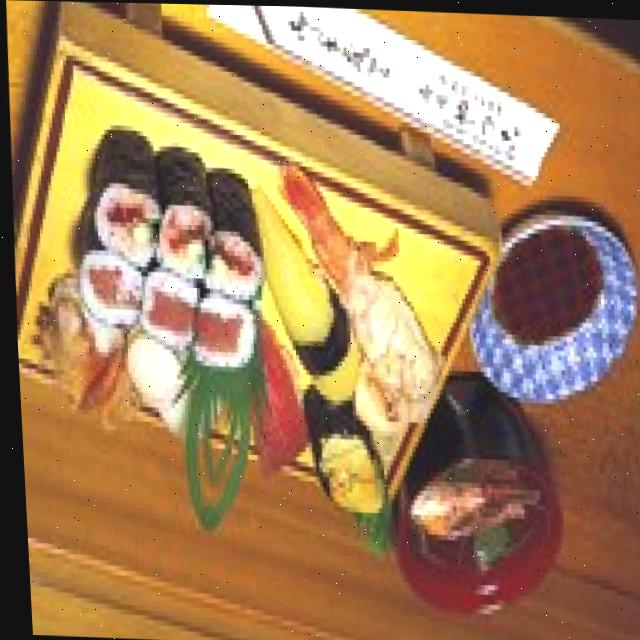寿司卷物: (19, 82, 481, 544)
